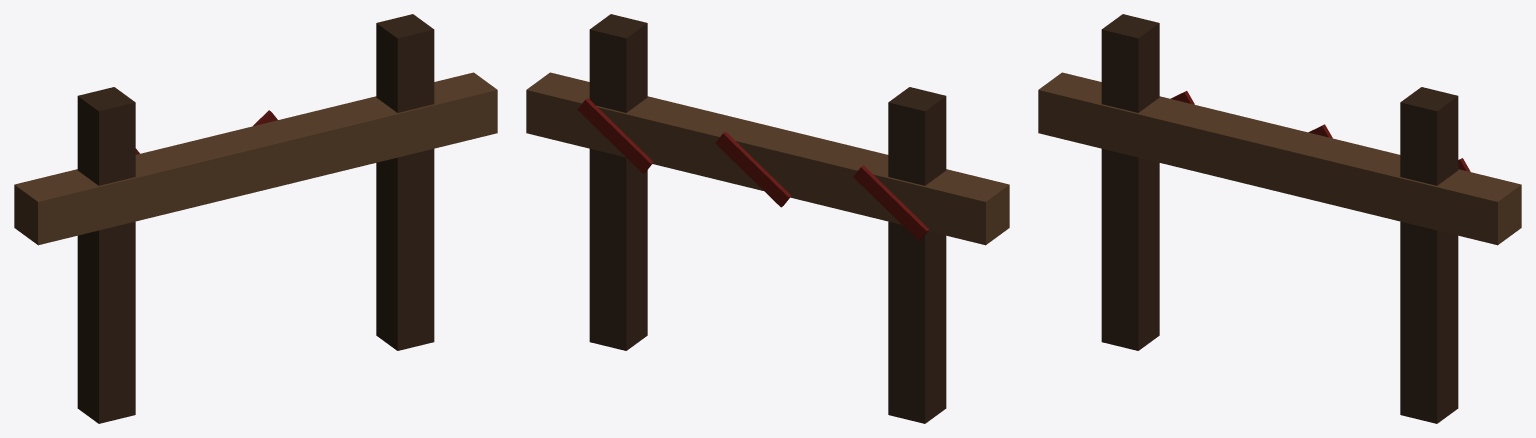
Rendered from AUR_Barricade_2m.obj.
The picture shows the model from 3 angles, left to right: view 1: azimuth 30°, elevation 25°; view 2: azimuth 150°, elevation 25°; view 3: azimuth 330°, elevation 25°; orthographic projection.
Parts seen in each view (by area): view 1: bar_0, leg_2, leg_1; view 2: bar_0, leg_2, leg_1, stripe_4, stripe_3, stripe_5; view 3: bar_0, leg_1, leg_2.
Part boxes in pixels (x1,y1,x2,y2): bar_0: [14, 72, 497, 245]; leg_2: [376, 14, 434, 350]; leg_1: [77, 87, 135, 423]; bar_0: [526, 72, 1009, 245]; leg_2: [589, 14, 647, 350]; leg_1: [888, 87, 946, 423]; stripe_4: [715, 131, 791, 207]; stripe_3: [853, 165, 929, 240]; stripe_5: [577, 98, 653, 173]; bar_0: [1038, 72, 1521, 245]; leg_1: [1101, 14, 1159, 350]; leg_2: [1400, 87, 1458, 423].
Bounding box in the file's own units: 2 × 1.3 × 0.21.
